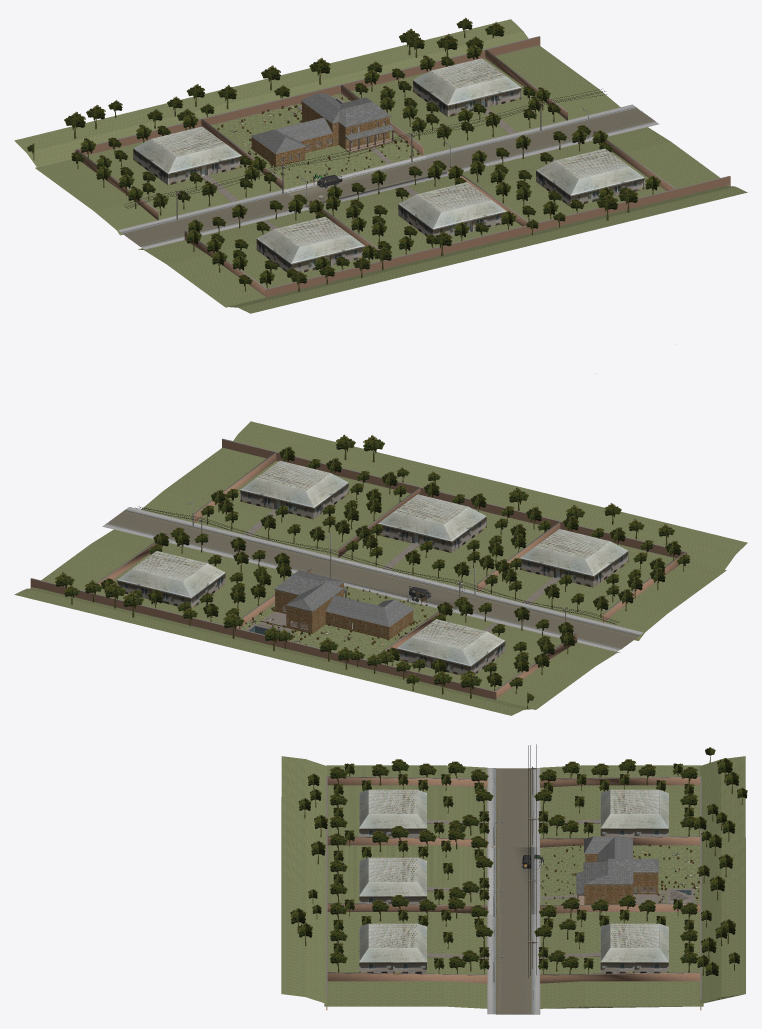
Rendered from map2.glb.
3 views of the same model, one above another, from view 1: azimuth 30°, elevation 25°; view 2: azimuth 150°, elevation 25°; view 3: azimuth 270°, elevation 25° (orthographic).
Parts seen in each view (by area): view 1: Fondo_Casa_f_0, Plane.067_Pasto1_0, Arboles_Pasto1_0, Plane.069_Pasto1_0, Arboles.001_Arbol1_0, Muro.001_Muro_0, Carretera_Road_0, Arboles_Arbol1_0, Patio_Pasto1_0, roof, Carretera_Banqueta_0, Arboles.002_Arbol1_0 (+8 smaller); view 2: Fondo_Casa_f_0, Plane.067_Pasto1_0, Arboles_Pasto1_0, Plane.069_Pasto1_0, Arboles.001_Arbol1_0, Muro.001_Muro_0, Carretera_Road_0, Arboles_Arbol1_0, Arboles.002_Arbol1_0, Carretera_Banqueta_0, roof, Patio_Pasto1_0 (+8 smaller); view 3: Arboles_Pasto1_0, Plane.069_Pasto1_0, Fondo_Casa_f_0, Plane.067_Pasto1_0, Arboles.001_Arbol1_0, Muro_Muro_0, Carretera_Road_0, Arboles_Arbol1_0, Patio_Pasto1_0, Arboles.002_Arbol1_0, Carretera_Banqueta_0, roof (+7 smaller).
Boxes of the visible parts, x1,y1,x2,y2 form: Fondo_Casa_f_0: (133, 58, 644, 272); Plane.067_Pasto1_0: (35, 141, 521, 307); Arboles_Pasto1_0: (14, 19, 747, 313); Plane.069_Pasto1_0: (351, 45, 730, 222); Arboles.001_Arbol1_0: (71, 44, 660, 291); Muro.001_Muro_0: (74, 37, 730, 297); Carretera_Road_0: (122, 108, 654, 246); Arboles_Arbol1_0: (27, 17, 637, 291); Patio_Pasto1_0: (211, 93, 422, 189); roof: (251, 93, 394, 154); Carretera_Banqueta_0: (118, 104, 659, 249); Arboles.002_Arbol1_0: (325, 160, 516, 254); Fondo_Casa_f_0: (117, 460, 628, 675); Plane.067_Pasto1_0: (339, 509, 726, 709); Arboles_Pasto1_0: (14, 421, 747, 715); Plane.069_Pasto1_0: (31, 447, 410, 624); Arboles.001_Arbol1_0: (100, 446, 690, 693); Muro.001_Muro_0: (30, 439, 686, 699); Carretera_Road_0: (107, 510, 638, 648); Arboles_Arbol1_0: (55, 434, 674, 708); Arboles.002_Arbol1_0: (345, 481, 550, 582); Carretera_Banqueta_0: (102, 507, 643, 651); roof: (274, 570, 414, 627); Patio_Pasto1_0: (240, 586, 438, 659); Arboles_Pasto1_0: (281, 756, 745, 1003); Plane.069_Pasto1_0: (324, 912, 703, 1008); Fondo_Casa_f_0: (359, 789, 668, 973); Plane.067_Pasto1_0: (326, 765, 700, 905); Arboles.001_Arbol1_0: (329, 759, 697, 974); Muro_Muro_0: (327, 777, 699, 983); Carretera_Road_0: (496, 768, 531, 1014); Arboles_Arbol1_0: (290, 747, 747, 975); Patio_Pasto1_0: (540, 845, 699, 905); Arboles.002_Arbol1_0: (329, 826, 493, 905); Carretera_Banqueta_0: (487, 768, 540, 1014); roof: (576, 836, 659, 894).
Size of the model in its own units: 162 by 14.23 by 203.
Materials: 78 (71 with a texture image).
